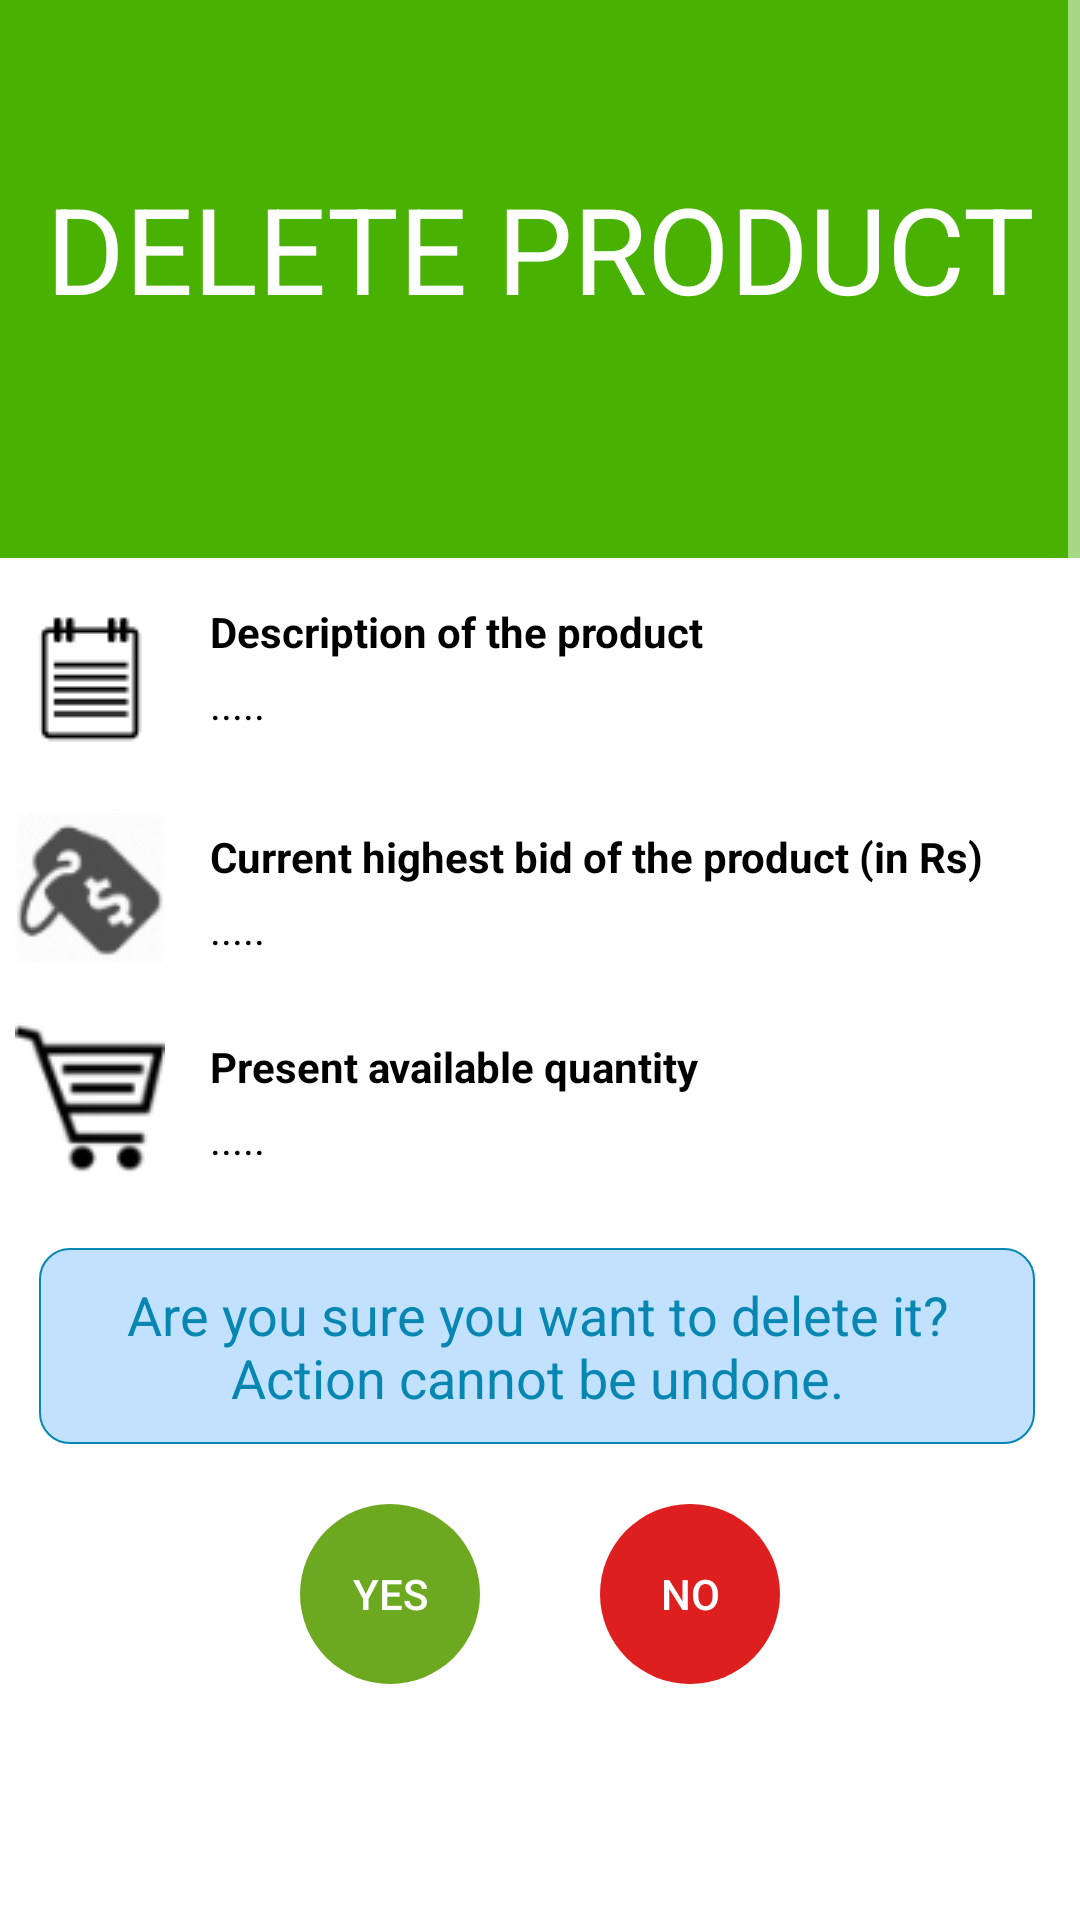

Where icons sit on this 1080px x 1920px app screen, as (x1, y1, x2, y2):
price: (18, 825, 162, 955)
